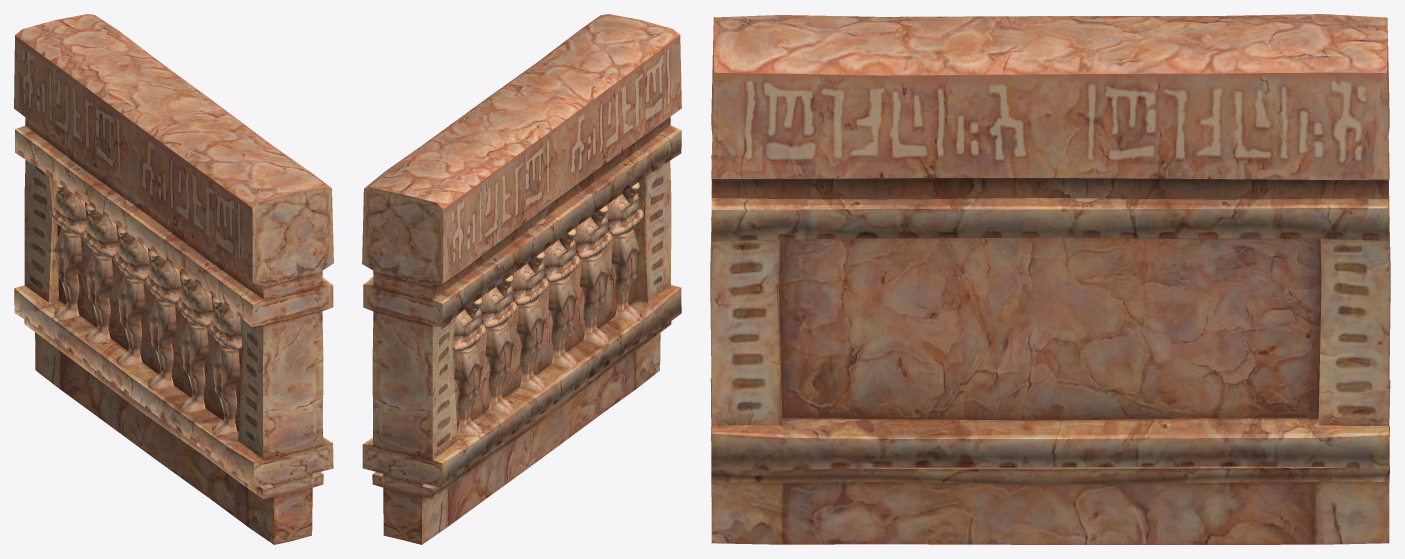
Rendered from kor_vod_ruins_statuewall.glb.
3 renders of one model, left to right at view 1: azimuth 30°, elevation 25°; view 2: azimuth 150°, elevation 25°; view 3: azimuth 270°, elevation 25°, orthographic. The views are drawn at different scales.
Parts seen in each view (by area): view 1: kor_vod_ruins_statuewall; view 2: kor_vod_ruins_statuewall; view 3: kor_vod_ruins_statuewall.
Boxes of the visible parts, <box> form: kor_vod_ruins_statuewall: <box>14,14,333,544</box>; kor_vod_ruins_statuewall: <box>362,14,681,544</box>; kor_vod_ruins_statuewall: <box>710,14,1390,544</box>.
Bounding box in the file's own units: 0.3958 × 1.62 × 2.
1 material, 1 textured.
